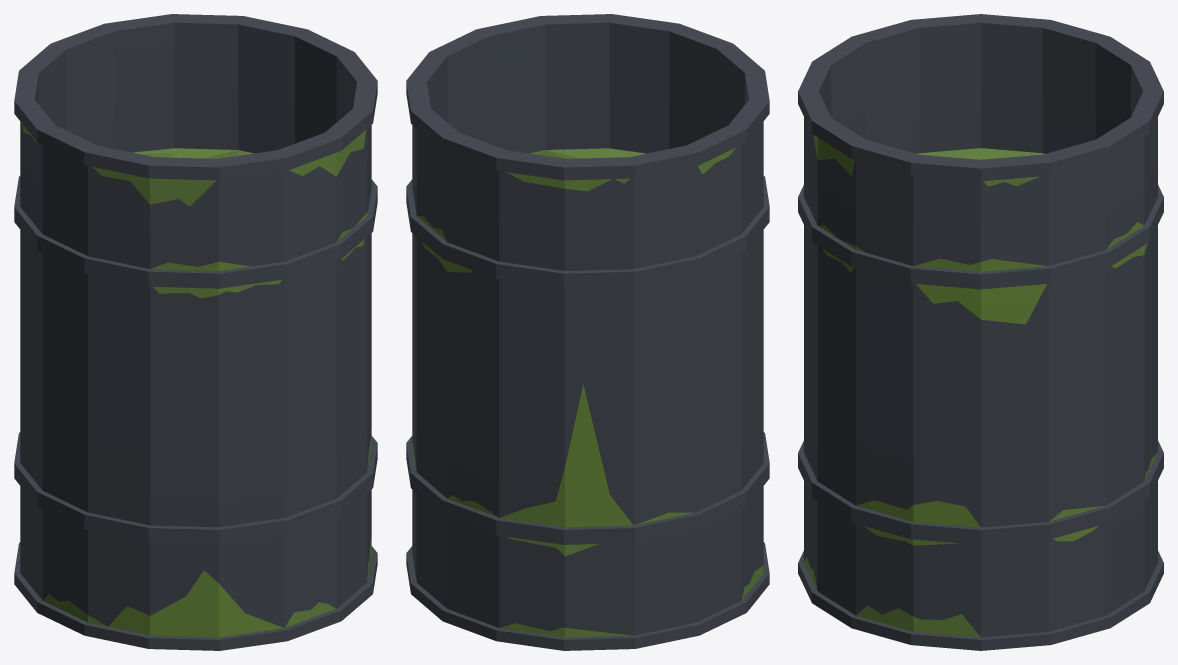
The model's file is Barrel_02.fbx.
The picture shows the model from 3 angles, left to right: view 1: azimuth 30°, elevation 25°; view 2: azimuth 150°, elevation 25°; view 3: azimuth 270°, elevation 25°; orthographic projection.
Parts seen in each view (by area): view 1: Barrel_02; view 2: Barrel_02; view 3: Barrel_02.
Part boxes in pixels (left/top/right/bottom): Barrel_02: left=14, top=14, right=377, bottom=650; Barrel_02: left=406, top=14, right=769, bottom=650; Barrel_02: left=798, top=14, right=1163, bottom=650.
Size of the model in its own units: 0.6096 by 0.8866 by 0.6096.
